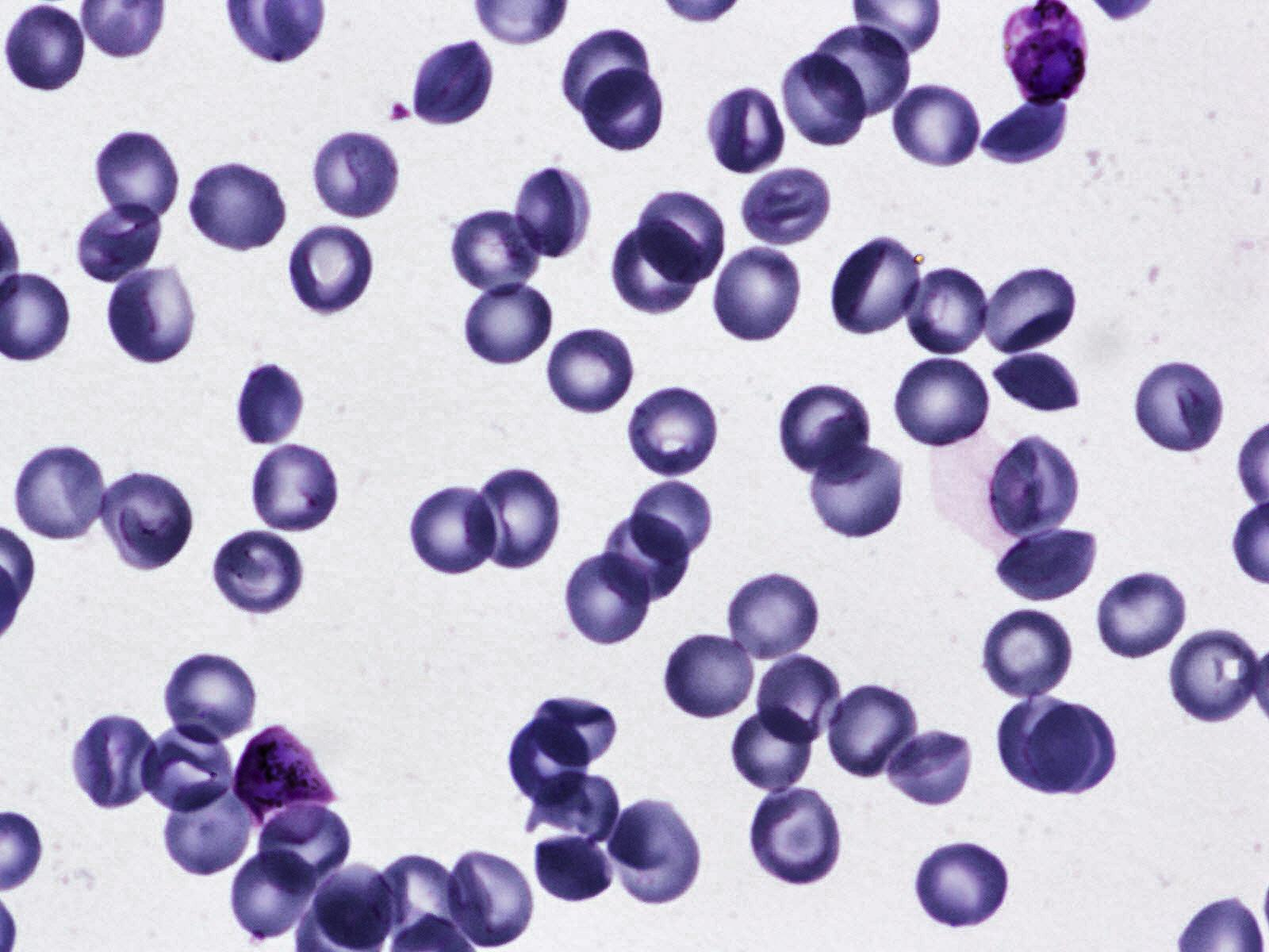Infected: (236, 721, 339, 820), (1003, 0, 1086, 106)
Uninfected: (995, 696, 1098, 799), (10, 440, 110, 546), (985, 432, 1083, 540), (159, 778, 261, 881), (606, 800, 703, 908), (466, 466, 565, 571), (806, 25, 917, 117), (163, 647, 261, 751), (822, 679, 922, 780), (891, 352, 995, 449), (750, 784, 842, 892), (624, 383, 723, 483), (104, 259, 198, 363), (811, 439, 903, 545), (722, 570, 825, 663), (631, 189, 729, 286), (228, 840, 316, 948), (709, 243, 803, 344), (100, 474, 196, 572), (560, 547, 654, 647), (205, 529, 308, 620), (543, 319, 639, 416), (372, 850, 468, 947), (139, 724, 237, 819), (1025, 704, 1118, 804), (97, 129, 186, 233), (1167, 628, 1261, 725), (188, 159, 286, 252), (1133, 358, 1225, 457), (831, 237, 922, 337), (786, 50, 875, 152), (913, 838, 1010, 931), (445, 849, 535, 949), (561, 29, 654, 125), (251, 800, 351, 889), (781, 381, 872, 478), (757, 652, 845, 752), (594, 516, 696, 602), (247, 440, 341, 533), (661, 628, 757, 719), (458, 277, 558, 364), (75, 712, 162, 812), (409, 481, 500, 576), (1096, 572, 1192, 662), (997, 523, 1102, 605), (978, 268, 1078, 354), (730, 700, 820, 793), (610, 225, 708, 309), (982, 605, 1072, 696), (628, 476, 718, 567), (285, 225, 378, 313), (882, 725, 980, 808), (512, 163, 592, 264), (894, 81, 983, 171), (902, 267, 990, 358), (738, 163, 834, 246), (450, 209, 542, 295), (311, 129, 399, 217), (577, 67, 661, 159), (505, 714, 586, 808), (523, 774, 626, 846), (408, 39, 494, 125), (314, 865, 398, 952), (977, 94, 1075, 167), (75, 201, 162, 283), (707, 85, 786, 172), (6, 6, 84, 93), (526, 699, 619, 771), (237, 362, 307, 448), (529, 835, 618, 900), (993, 355, 1080, 420)
